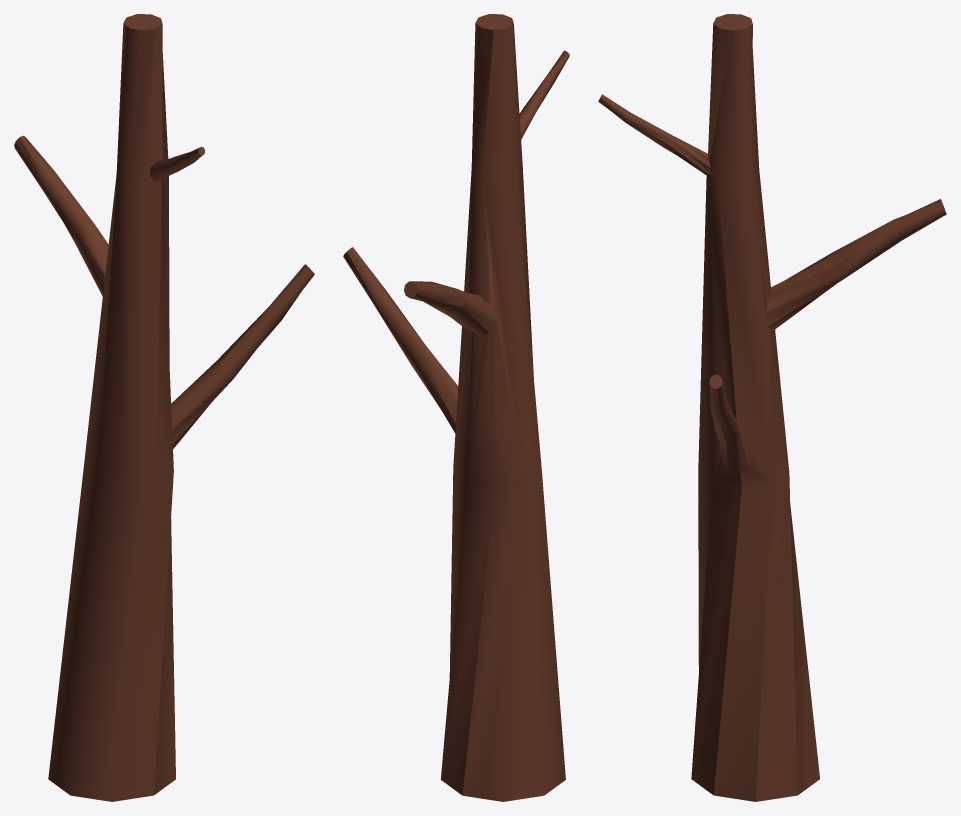
The model's file is TreeBranch1.fbx.
3 views of the same model, side by side, from view 1: azimuth 30°, elevation 25°; view 2: azimuth 150°, elevation 25°; view 3: azimuth 270°, elevation 25° (orthographic). The views are drawn at different scales.
Visible parts, largest first — view 1: Model; view 2: Model; view 3: Model.
Boxes of the visible parts, x1,y1,x2,y2 form: Model: (14,14,314,801); Model: (343,14,569,801); Model: (598,14,946,801).
Bounding box in the file's own units: 290 × 891 × 369.
